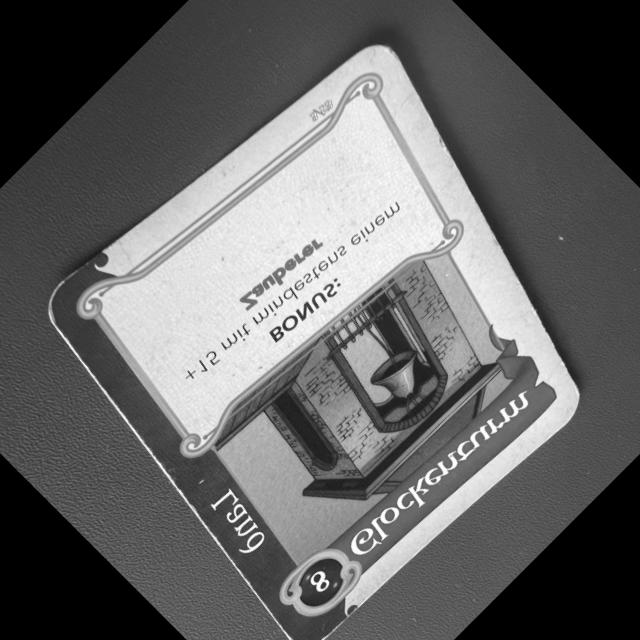Clock Tower: (31, 27, 590, 640)
